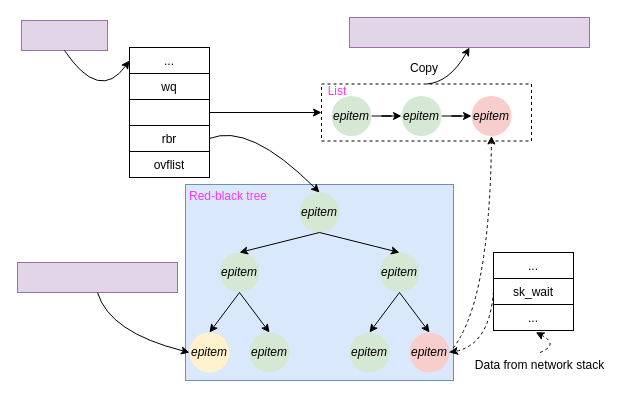
Some shapes in this 628 by 398 pixel diagram are drawn without their labels. Each missing label, with the centre of its shape:
"epoll_create1" belongs at pixel 64 35.
"epoll_ctl(epfd, op, fd, event)" belongs at pixel 97 277.
"epoll_wait(epfd, event, maxevents, timeout)" belongs at pixel 469 32.
"relist" belongs at pixel 169 112.
